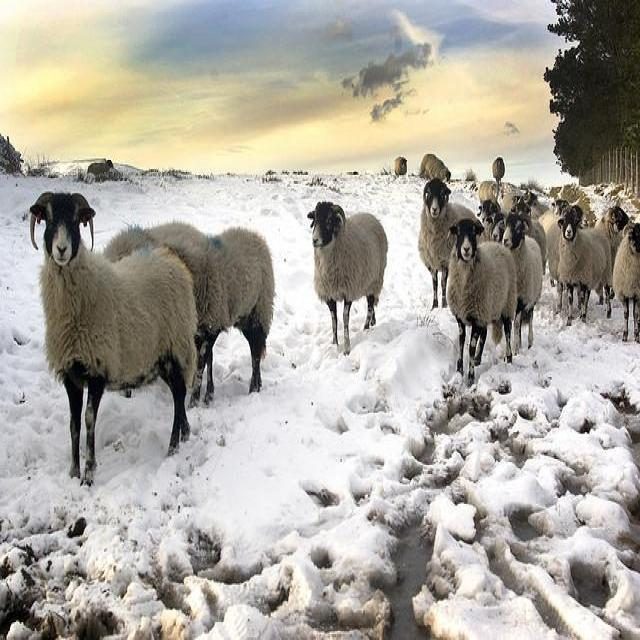Sheep: (86, 151, 565, 302), (31, 191, 197, 486), (157, 224, 278, 408), (307, 202, 389, 356), (446, 218, 520, 380), (417, 178, 479, 315), (555, 200, 613, 326), (504, 214, 541, 357), (511, 190, 547, 275), (593, 206, 631, 271)
